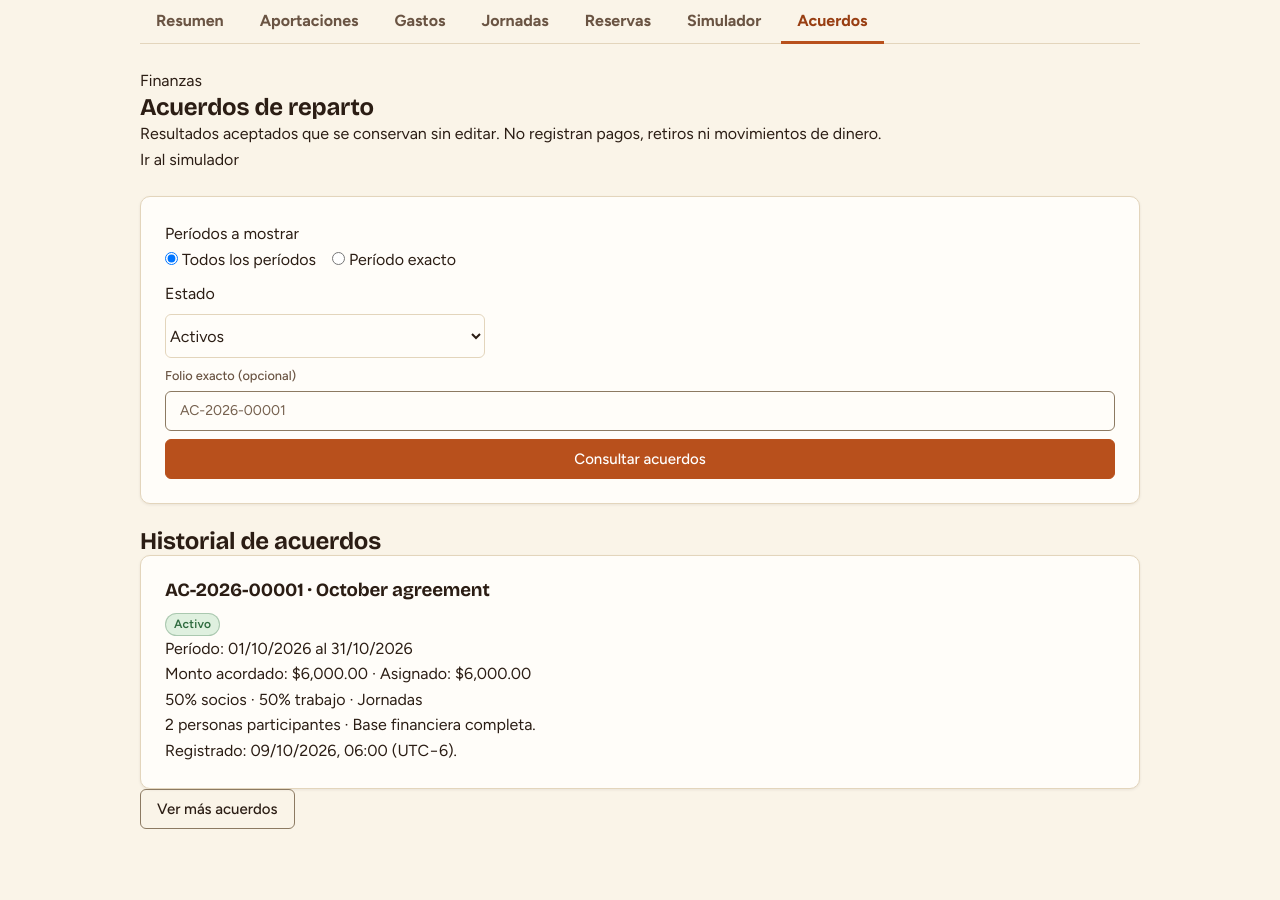
Test case: agreement history › preserves opaque cursor pagination and shows explicit empty/error/retry states
Click the button with test id "more-agreements": coordinates (217, 808) [140,788,294,828]
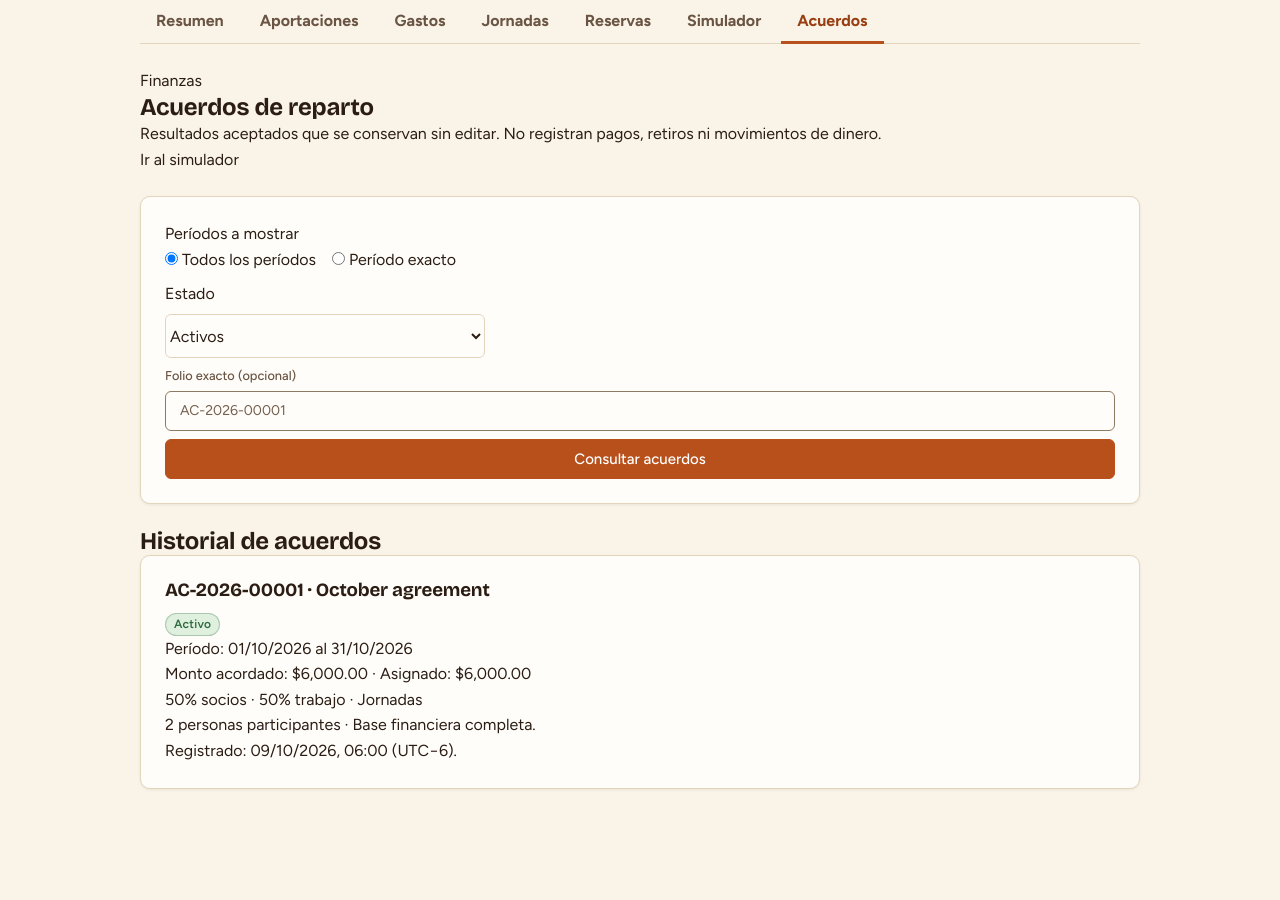
Submit the form, box [165,221,1115,479]
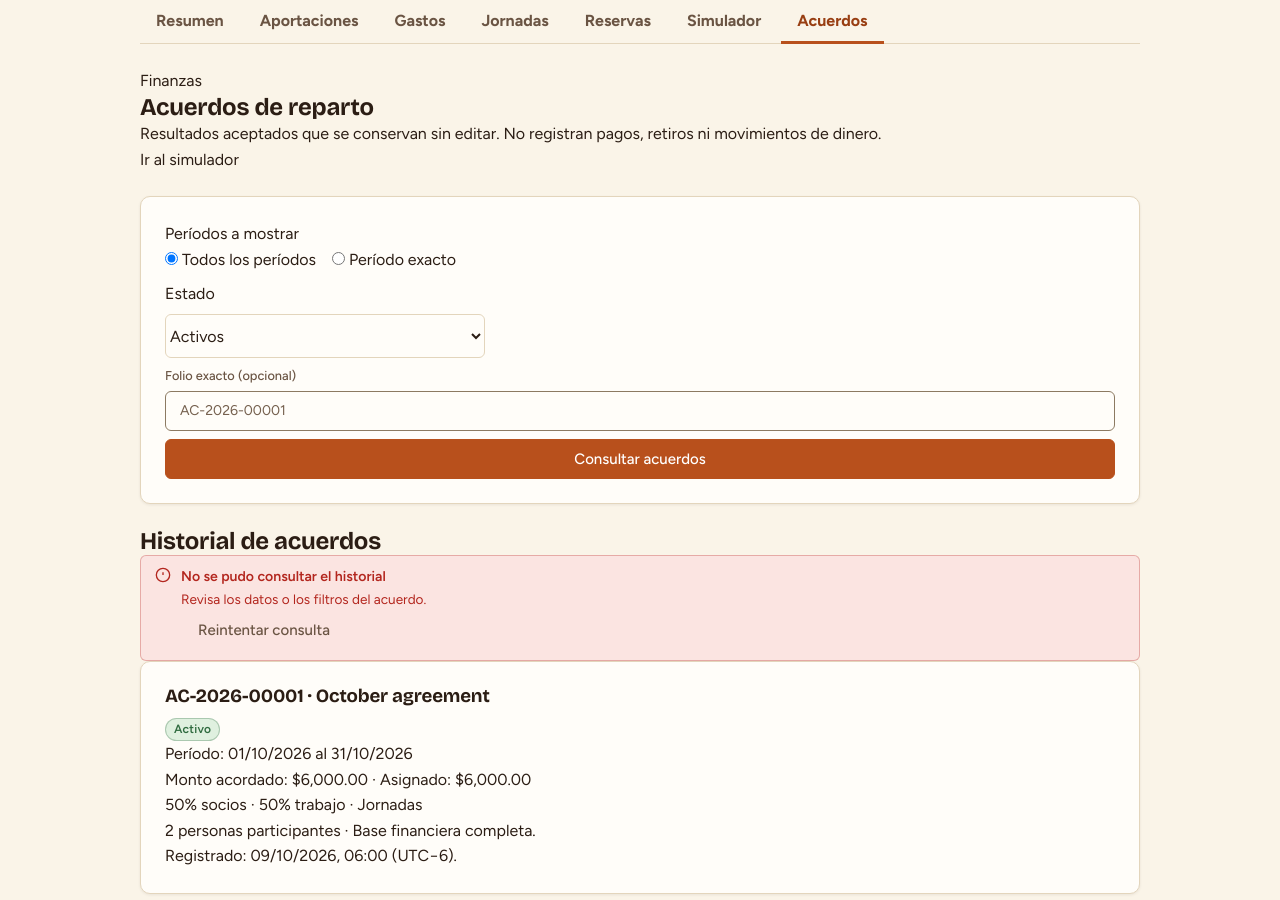
Expected: the element with test id "agreements-error" shows "Revisa los datos", [181,591,426,607]
Click the button with test id "retry-agreements": coordinates (264, 630) [181,610,347,650]
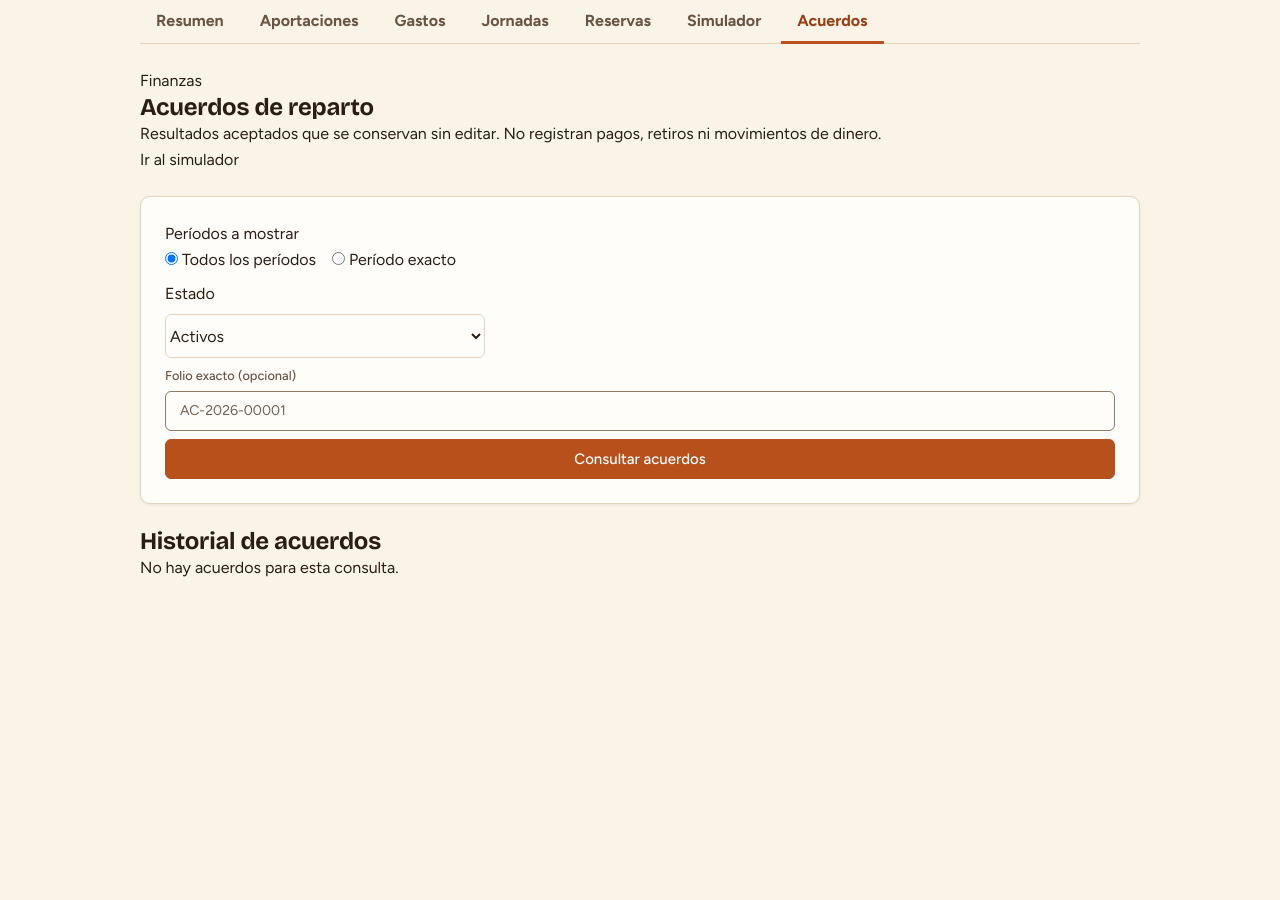
Expected: the text "No hay acuerdos para esta consulta." is shown, [140,558,399,577]
